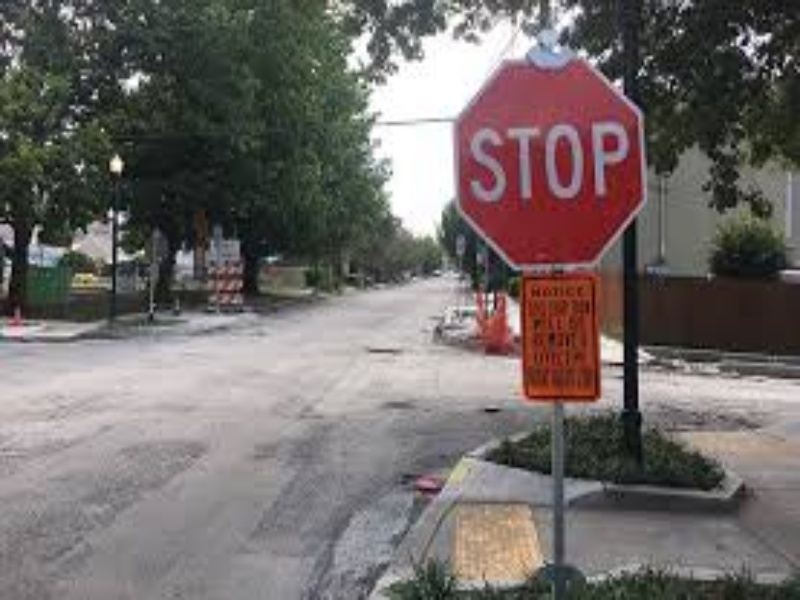Stop_Sign: (459, 54, 644, 268)
